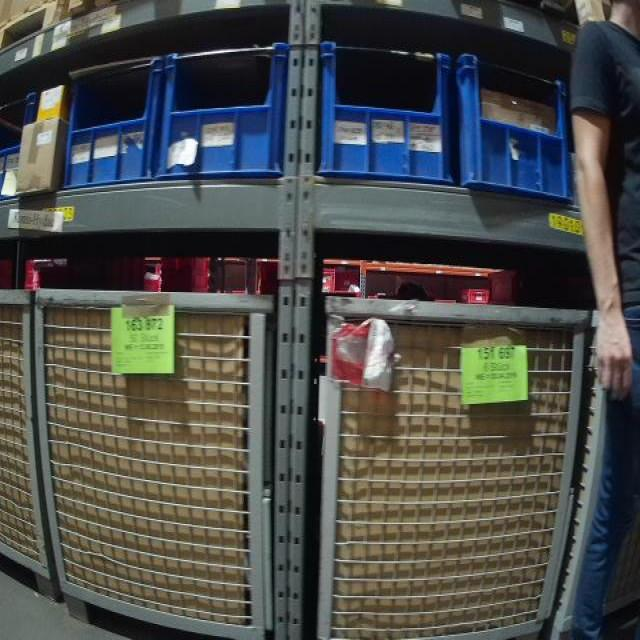pallet: (0, 0, 68, 52)
small_load_carrier: (319, 35, 455, 183), (153, 39, 291, 184), (456, 51, 568, 196), (64, 53, 161, 185), (1, 89, 40, 205), (485, 268, 530, 303), (158, 269, 217, 288), (160, 255, 218, 270), (453, 286, 491, 303), (323, 267, 339, 295), (22, 271, 45, 287), (22, 259, 48, 273), (21, 287, 45, 294)
stillage: (313, 289, 592, 639), (34, 279, 289, 637), (1, 283, 55, 603)
